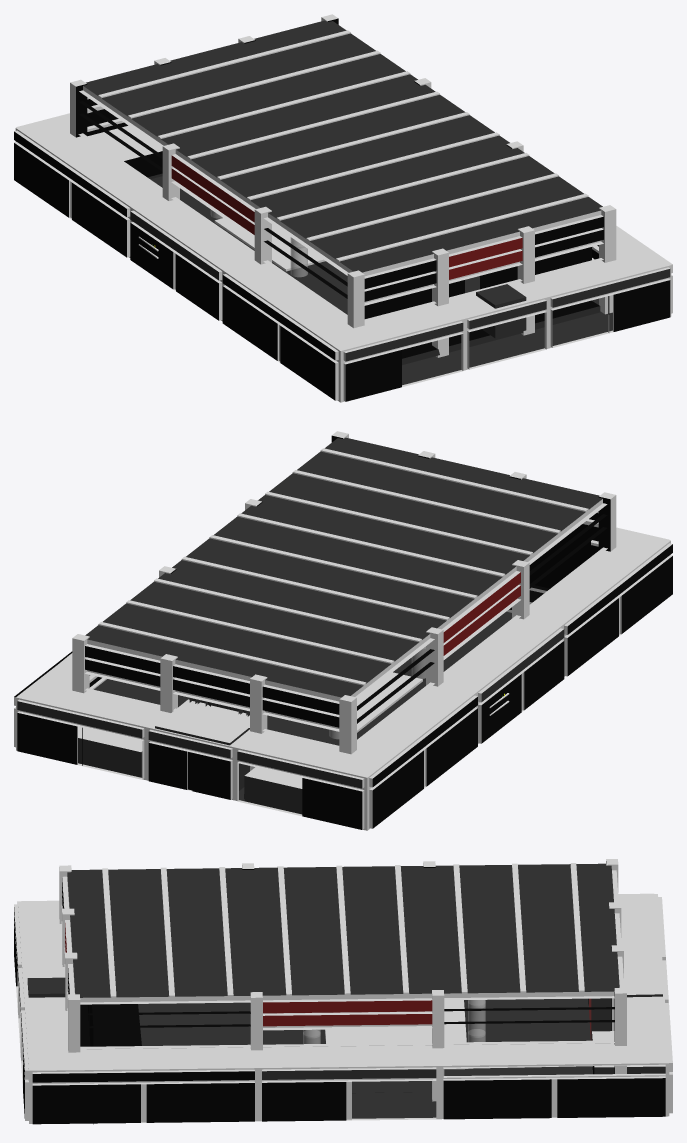
Rendered from nightClub.glb.
3 views of the same model, one above another, from view 1: azimuth 30°, elevation 25°; view 2: azimuth 150°, elevation 25°; view 3: azimuth 270°, elevation 25° (orthographic). The views are drawn at different scales.
Parts seen in each view (by area): view 1: Bar_2; view 2: Bar_2; view 3: Bar_2, tube_1.
Boxes of the visible parts, box(x1,y1,x2,y2) form: Bar_2: box(14, 14, 672, 402); Bar_2: box(14, 431, 672, 830); Bar_2: box(14, 859, 672, 1124); tube_1: box(468, 1000, 485, 1042).
Size of the model in its own units: 36.12 by 12.64 by 55.8.
